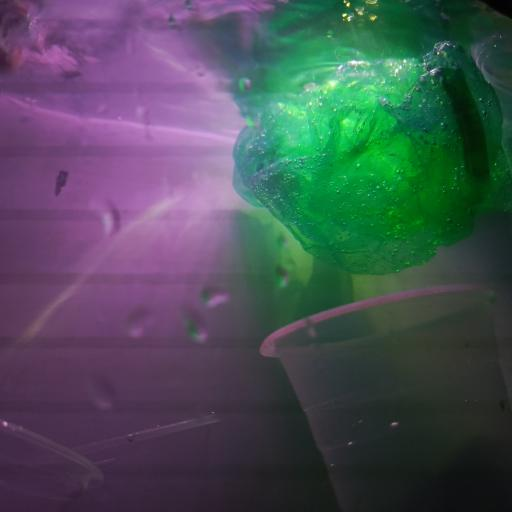plastic_bag: (227, 40, 512, 278)
plastic_cup: (258, 281, 512, 512), (18, 410, 223, 512), (0, 419, 105, 512), (470, 36, 512, 147)
